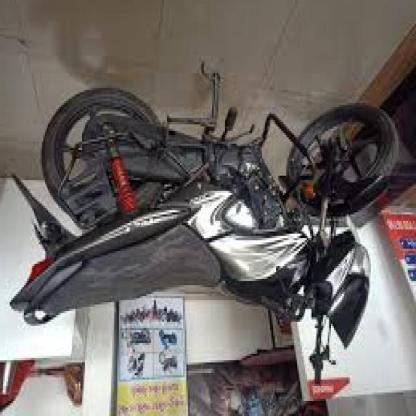bike: (6, 71, 398, 347)
